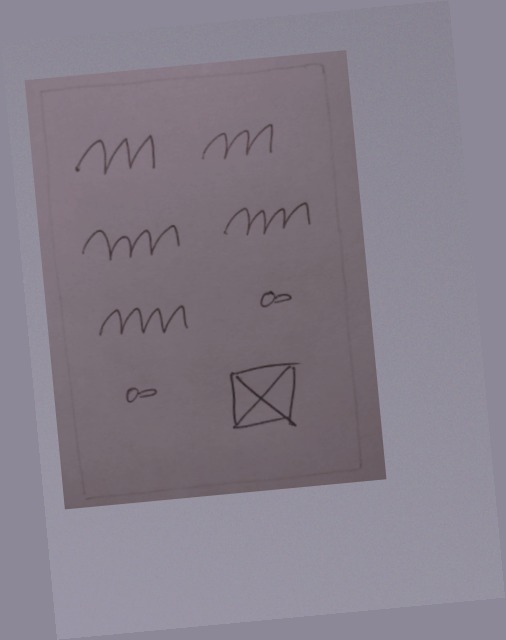image: (222, 356, 309, 439)
switch: (249, 283, 306, 317), (112, 375, 165, 411)
text: (73, 219, 193, 274), (65, 126, 171, 186), (90, 294, 201, 349), (190, 115, 280, 172), (217, 196, 316, 246)
